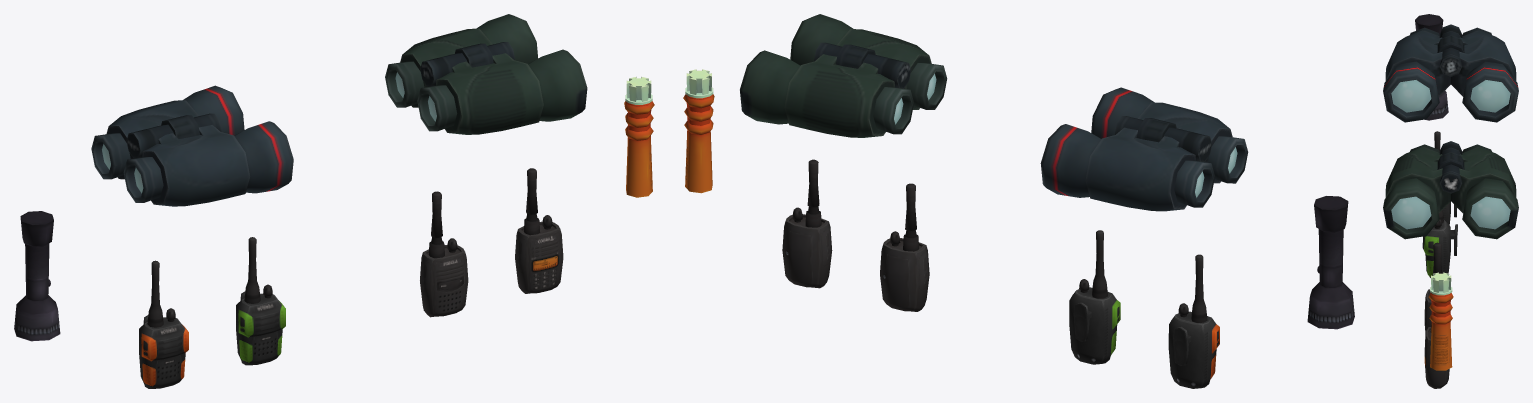
Rendered from tools+vol+2.glb.
3 renders of one model, left to right at view 1: azimuth 30°, elevation 25°; view 2: azimuth 150°, elevation 25°; view 3: azimuth 270°, elevation 25°, orthographic. The views are drawn at different scales.
Parts seen in each view (by area): view 1: 1, 2, 3, 6, 5, 8, 7, 4; view 2: 1, 2, 3, 5, 6, 7, 8, 4; view 3: 1, 2, 4, 6, 3, 8, 7, 5.
Boxes of the visible parts, x1,y1,x2,y2 form: 1: (91,85,293,206); 2: (385,14,587,134); 3: (14,211,60,341); 6: (236,237,285,365); 5: (139,260,188,388); 8: (515,168,563,293); 7: (420,191,468,317); 4: (624,76,654,197); 1: (1040,87,1248,211); 2: (740,14,947,137); 3: (1307,196,1354,329); 5: (1168,254,1219,388); 6: (1069,230,1120,364); 7: (880,183,929,311); 8: (782,159,832,288); 4: (683,69,714,193); 1: (1383,24,1518,122); 2: (1383,141,1518,239); 4: (1428,272,1453,370); 6: (1422,210,1457,277); 3: (1415,14,1448,120); 8: (1424,323,1449,388); 7: (1424,242,1441,334); 5: (1434,131,1456,224).
Bounding box in the file's own units: 4.2 × 1.6 × 0.9454.
Materials: 3 (3 with a texture image).
